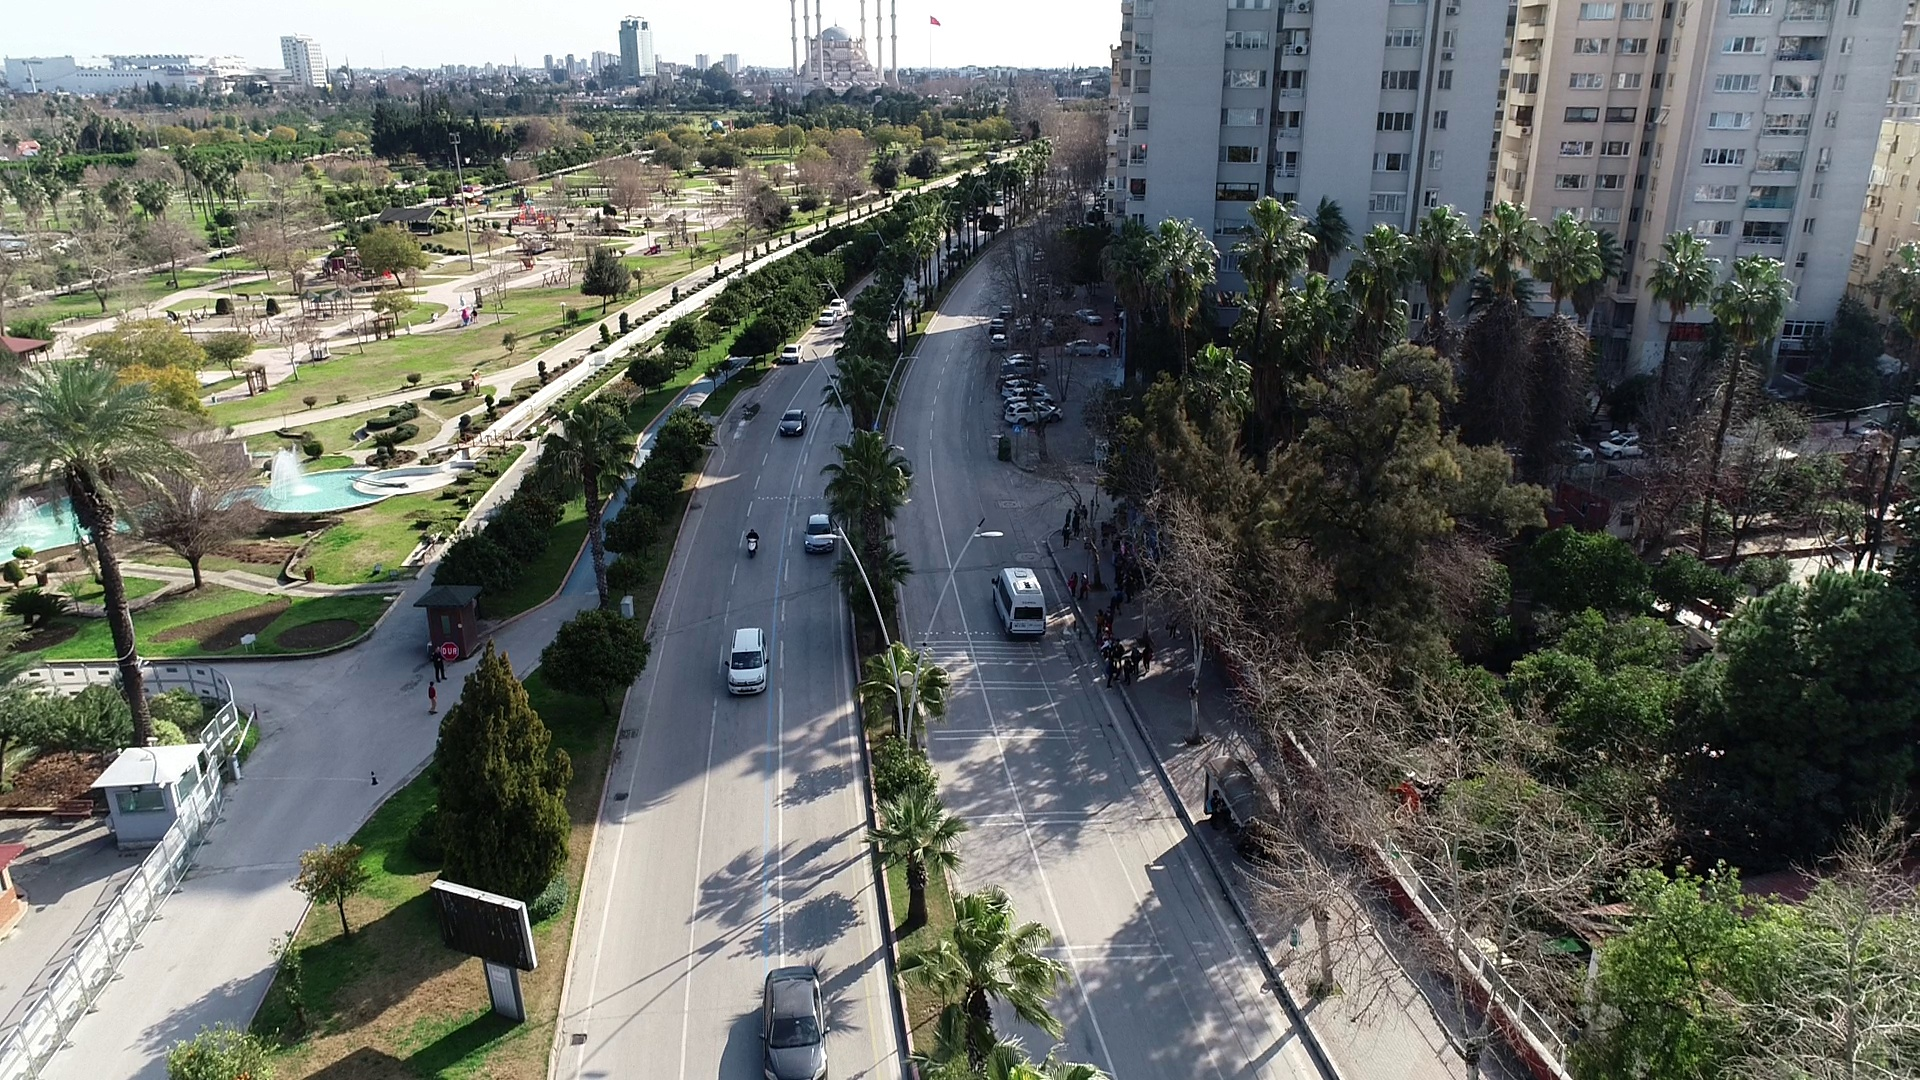bus: (984, 565, 1055, 640)
car: (749, 957, 839, 1080), (722, 626, 778, 697), (1595, 428, 1667, 460), (800, 511, 841, 557), (1005, 401, 1066, 428), (1000, 377, 1050, 399), (1065, 337, 1111, 361), (779, 408, 811, 438), (778, 339, 804, 367), (1074, 307, 1102, 329), (817, 306, 839, 329), (988, 331, 1011, 351), (827, 297, 848, 315), (987, 315, 1009, 332)
person: (428, 643, 452, 681), (1210, 786, 1226, 833), (1141, 642, 1161, 676), (1107, 653, 1123, 690), (1069, 506, 1086, 542), (424, 680, 440, 715), (1077, 572, 1095, 604), (1121, 657, 1136, 686), (1060, 522, 1074, 551), (1067, 568, 1079, 600), (1062, 507, 1073, 528), (470, 306, 481, 326)
